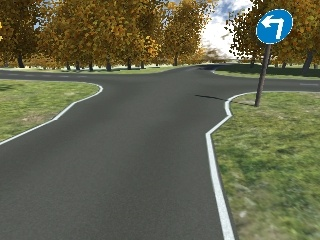TLeft: (254, 7, 296, 47)
